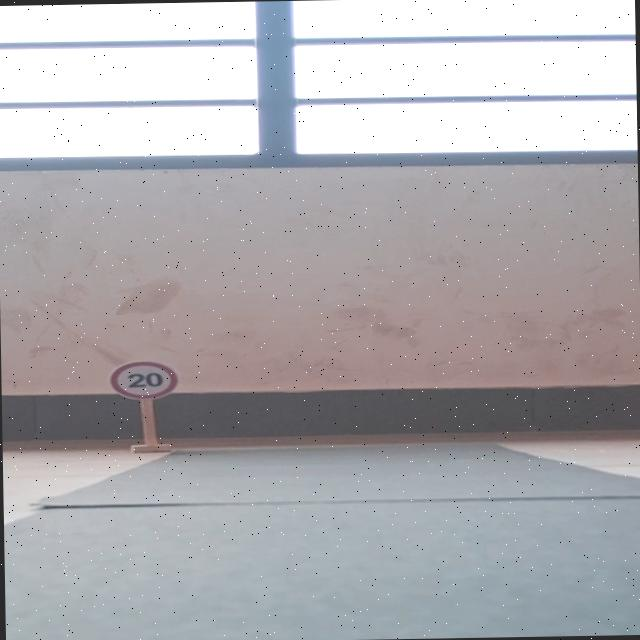Speed20: (106, 354, 182, 404)
